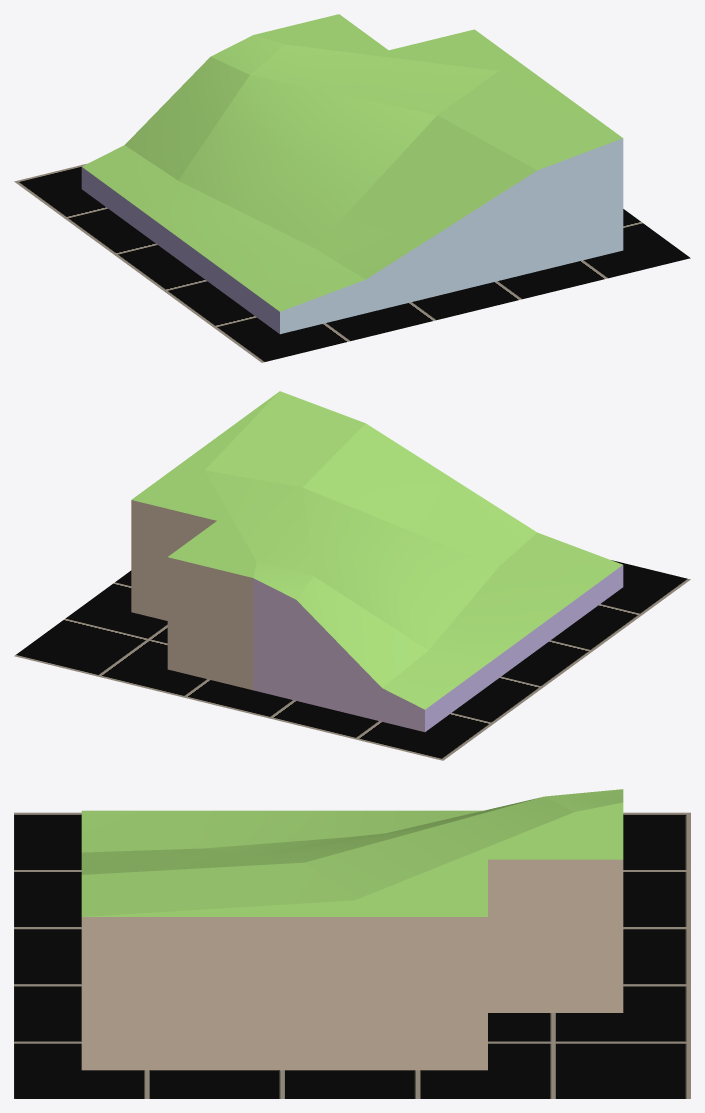
File: Grass_Hill_Grade_Transition_Straight_Front_4x4.glb
The picture shows the model from 3 angles, top to bottom: view 1: azimuth 30°, elevation 25°; view 2: azimuth 150°, elevation 25°; view 3: azimuth 270°, elevation 25°; orthographic projection. The views are drawn at different scales.
Visible parts, largest first — view 1: Grass_Hill_Grade_Transition_Straight_Front_4x4, Floor; view 2: Grass_Hill_Grade_Transition_Straight_Front_4x4, Floor; view 3: Grass_Hill_Grade_Transition_Straight_Front_4x4, Floor.
Part boxes in pixels (x1,y1,x2,y2): Grass_Hill_Grade_Transition_Straight_Front_4x4: (81,14,623,334); Floor: (14,164,690,362); Grass_Hill_Grade_Transition_Straight_Front_4x4: (131,391,623,731); Floor: (14,560,690,760); Grass_Hill_Grade_Transition_Straight_Front_4x4: (81,789,623,1070); Floor: (14,812,690,1098).
Bounding box in the file's own units: 500 × 125 × 500.
7 materials, 1 textured.
